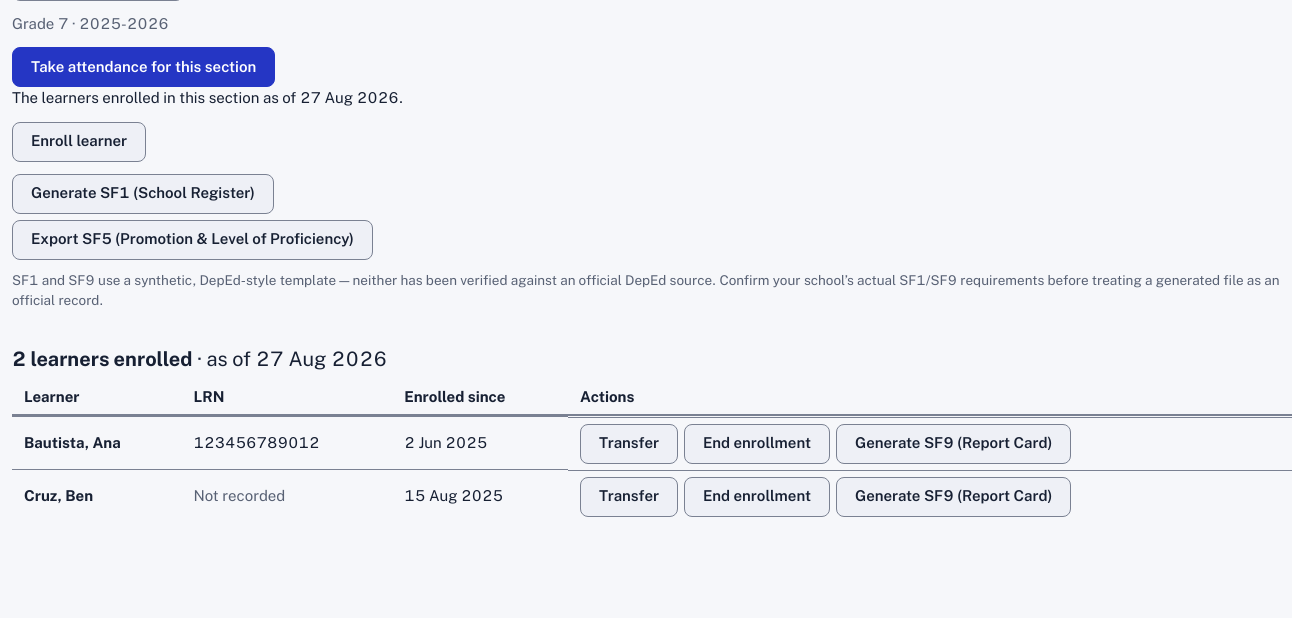
Scenario: SectionRosterScreen › transfers a learner to another section and refreshes the roster
Expected: the column heading "Bautista, Ana" is shown, 12,417 -> 182,470
Click the button with aria-label "Transfer Bautista, Ana".
click(629, 444)  # box 580,424 -> 678,464
(page scrolled)
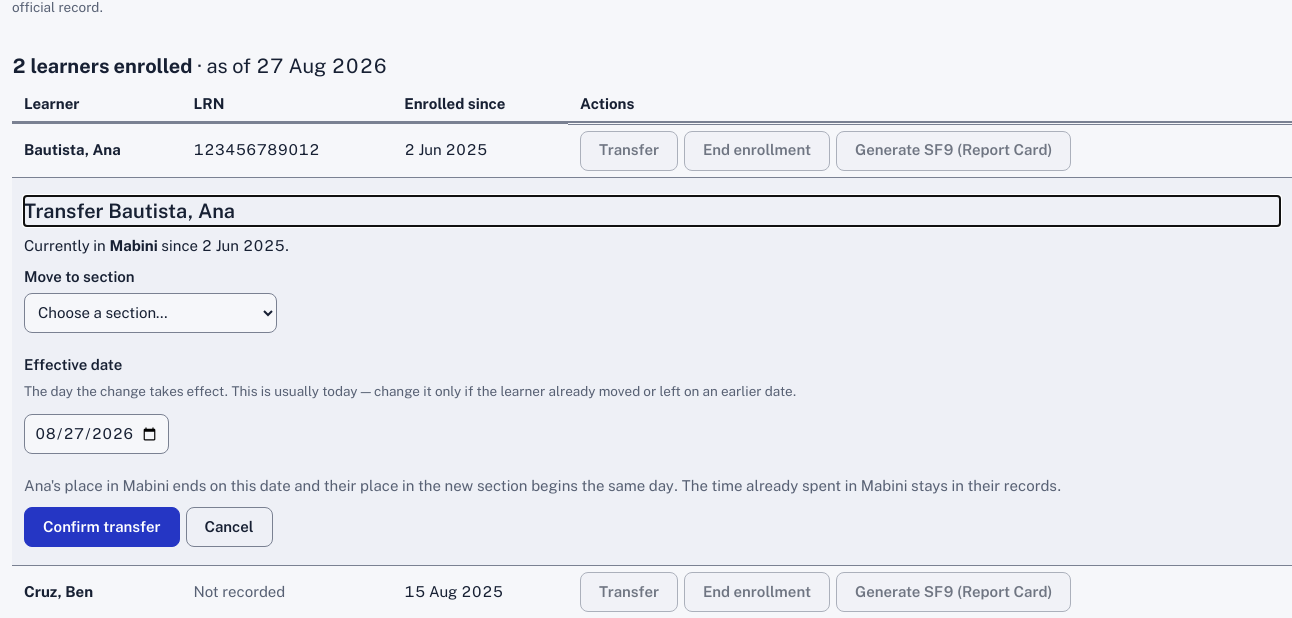
Select "Rizal — Grade 7, 2025-2026" in the dropdown labelled "Move to section" at (150, 313), box 24,293 -> 277,333
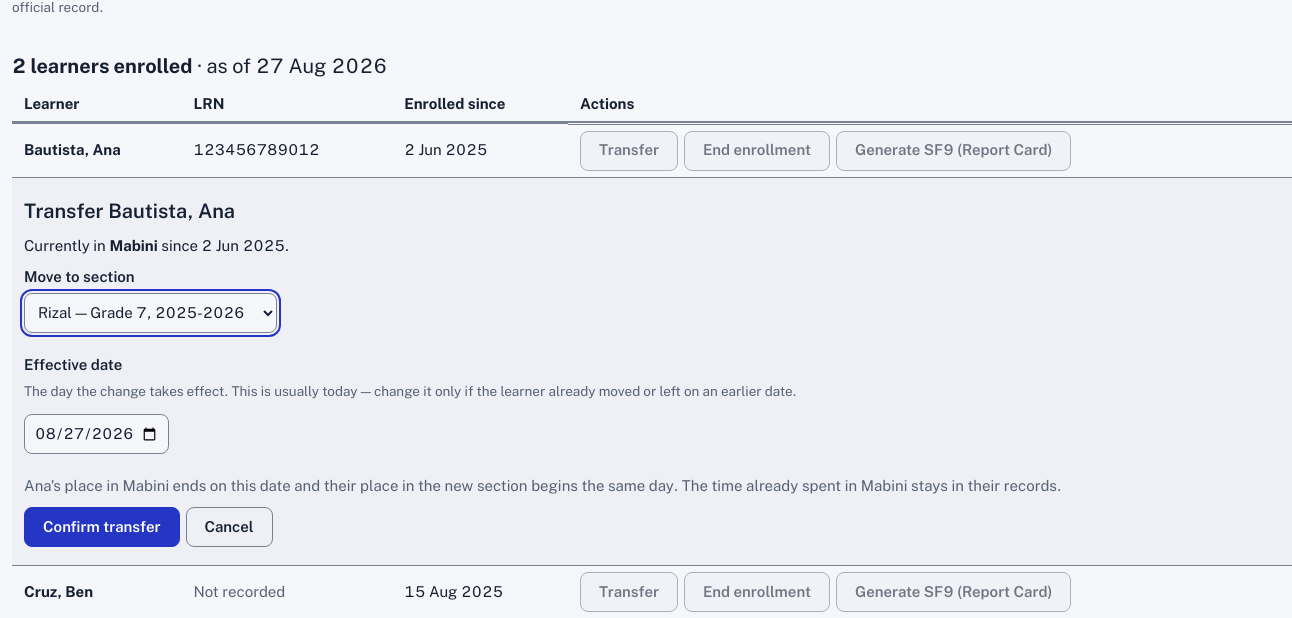
Click the button "Confirm transfer".
click(102, 527)  # box 24,507 -> 180,547
(page scrolled)
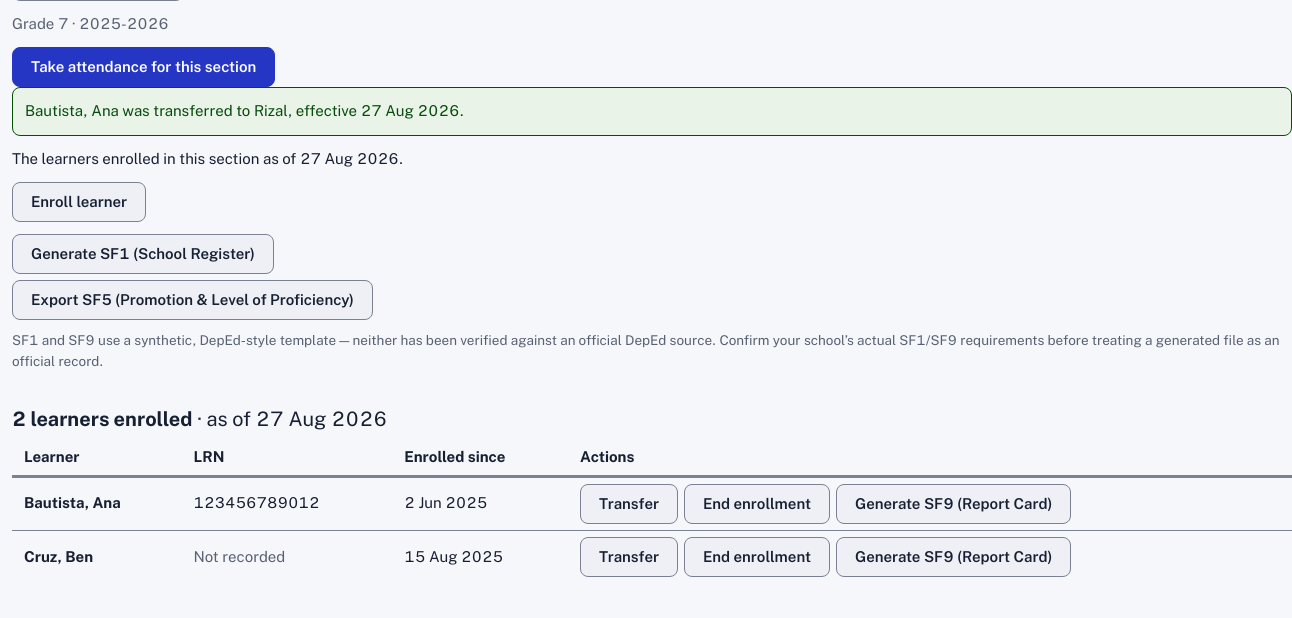
Expected: the text "Bautista, Ana was transferred to Rizal, effective 27 Aug 2026." is shown, 12,87 -> 1291,136
Expected: the button "Confirm transfer" is gone
